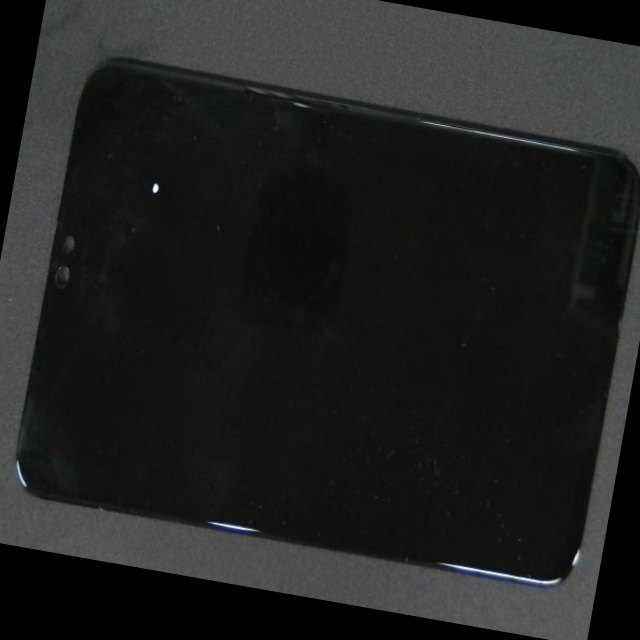stain: (70, 29, 236, 280)
